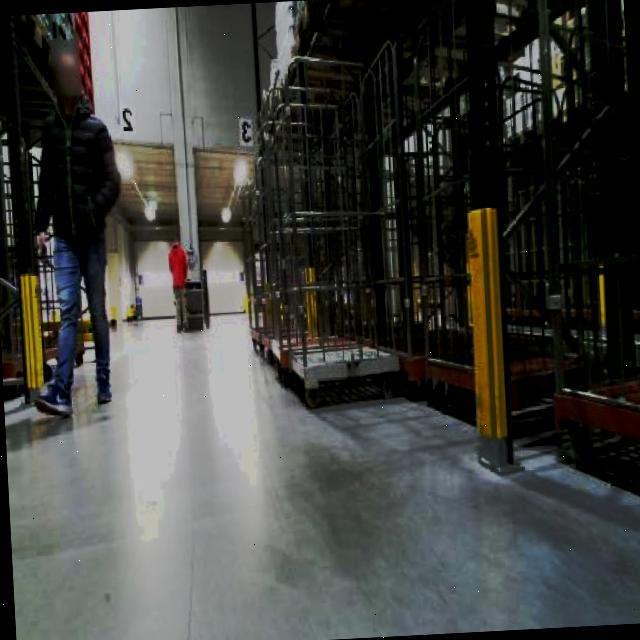ground: (0, 290, 640, 640)
pallet: (228, 0, 640, 567), (0, 13, 90, 441), (0, 245, 90, 410), (549, 365, 640, 517), (420, 345, 586, 416)
